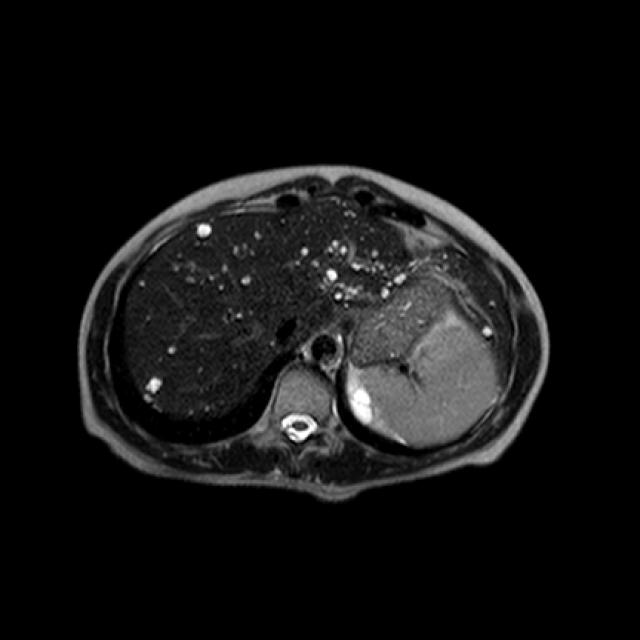sol: (346, 369, 411, 446)
